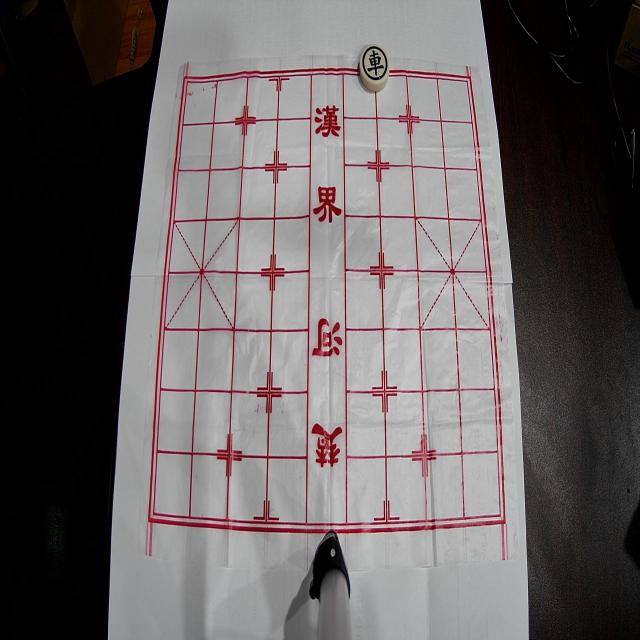black-chariot: (360, 44, 390, 91)
